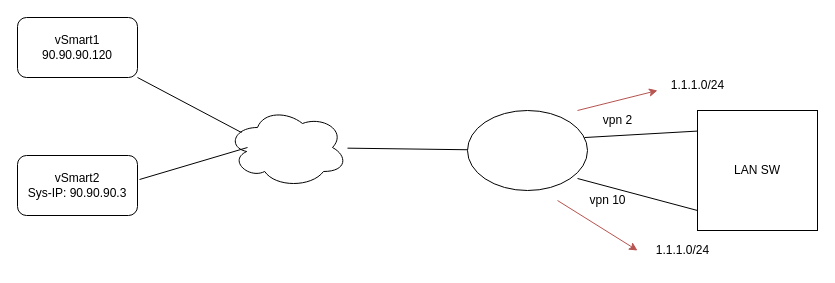
Image size: 835x283. Some labels were removed from this diagram. Each missing label, with the box of its shape:
Site: 836 Sys-ip: 10.0.0.22: (466, 110, 588, 190)
Underlay: (226, 106, 348, 188)
